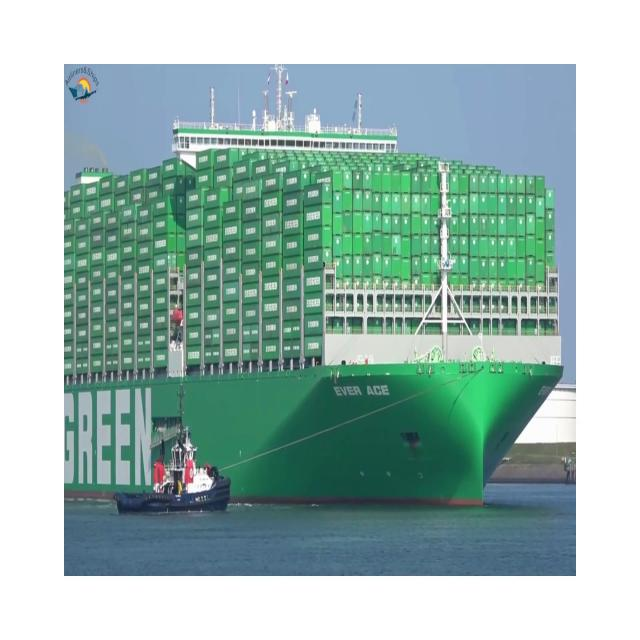OCR: (66, 383, 156, 504), (330, 373, 396, 405)
